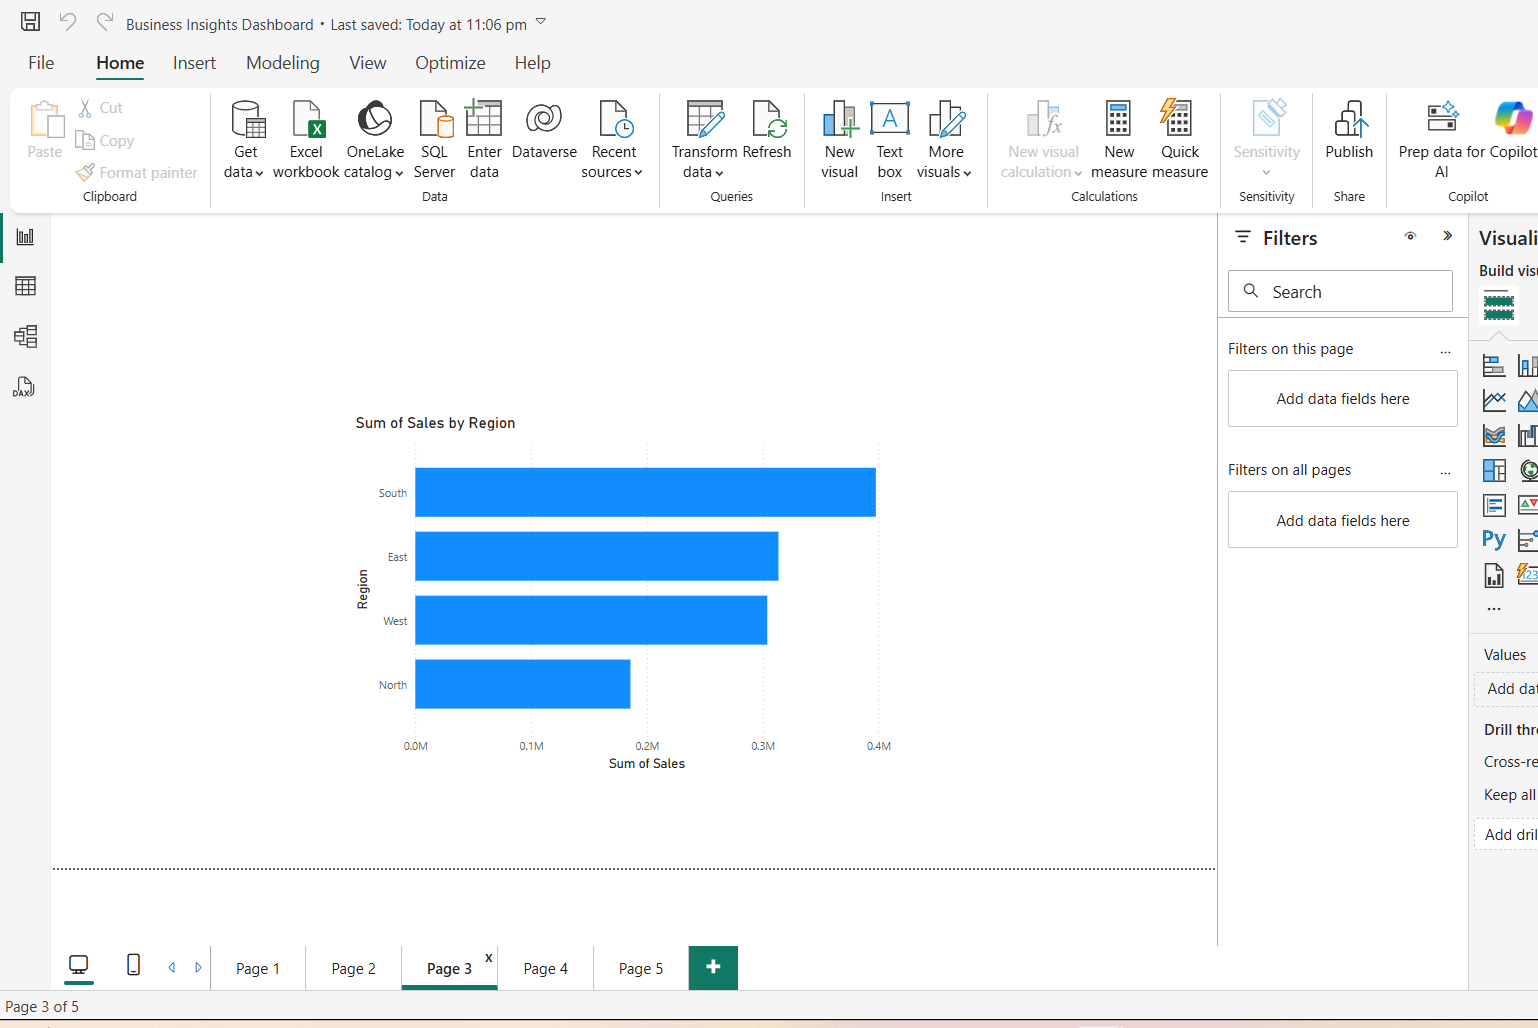

The page's visual inventory and layout, read from the dashboard file:
{"tool":"powerbi","page":{"name":"Page 3","canvas":[1280,720],"ordinal":2},"visuals":[{"type":"barChart","fields":{"Category":["SalesData.Region"],"Y":["Sum(SalesData.Sales)"]},"box":[329.3,219.6,598.3,397.9],"z":0}]}

Visuals, with their boxes on the page's 1280x720 design canvas (x1, y1, x2, y2). These are canvas units, not pixel positions in the 1538x1028 screenshot, which may show the page scaled, cropped or inside an application window:
barChart - SalesData.Region x Sum(SalesData.Sales): (329,220,928,618)
